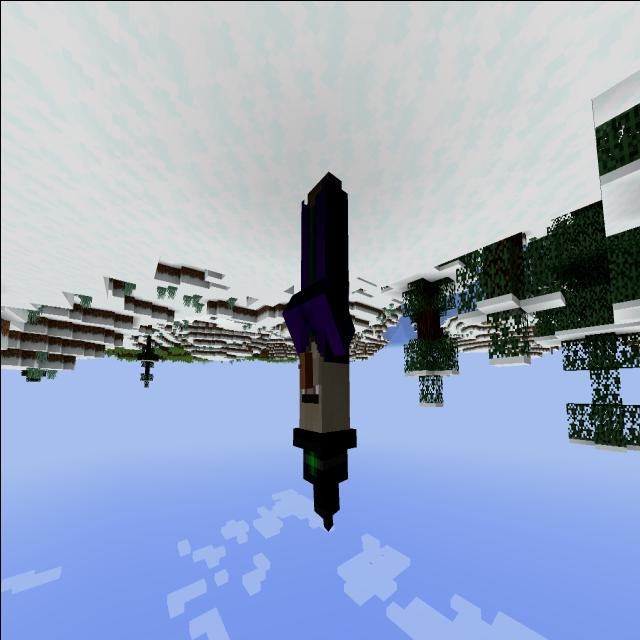Witch: (275, 155, 366, 543)
